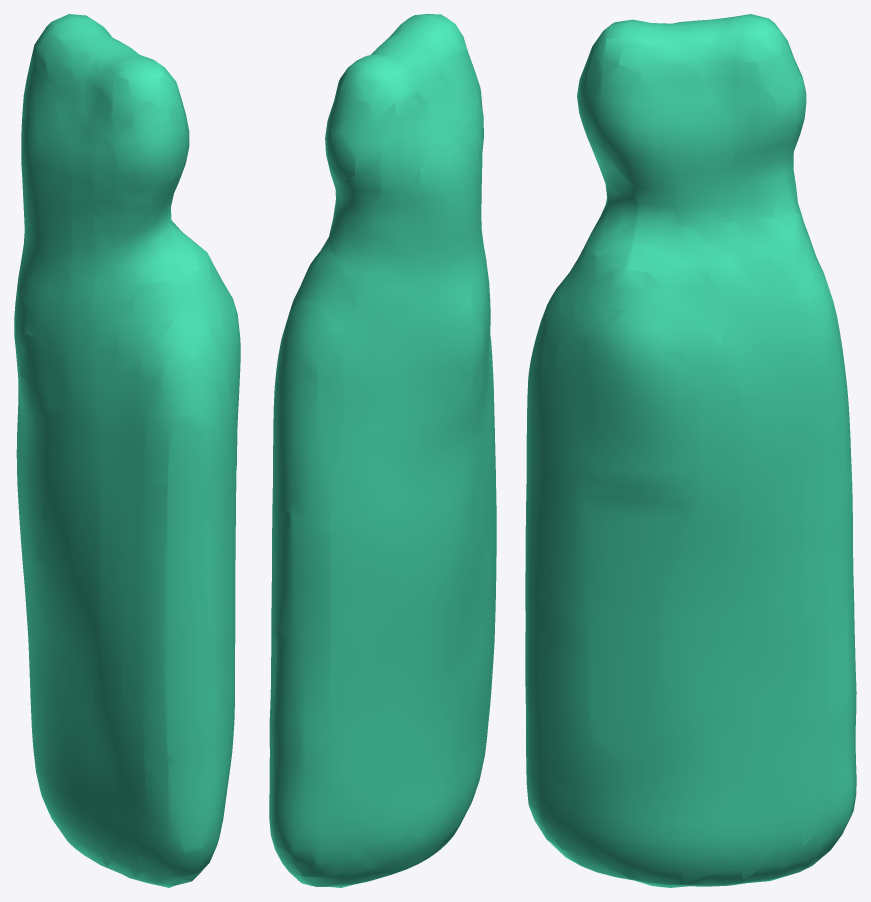
The picture shows the model from 3 angles, left to right: view 1: azimuth 30°, elevation 25°; view 2: azimuth 150°, elevation 25°; view 3: azimuth 270°, elevation 25°; orthographic projection. The views are drawn at different scales.
Parts seen in each view (by area): view 1: Liquid_Domain; view 2: Liquid_Domain; view 3: Liquid_Domain.
Boxes of the visible parts, <box> form: Liquid_Domain: <box>14,14,240,887</box>; Liquid_Domain: <box>269,14,496,887</box>; Liquid_Domain: <box>525,14,856,887</box>.
Bounding box in the file's own units: 1.61 × 6.85 × 2.45.
